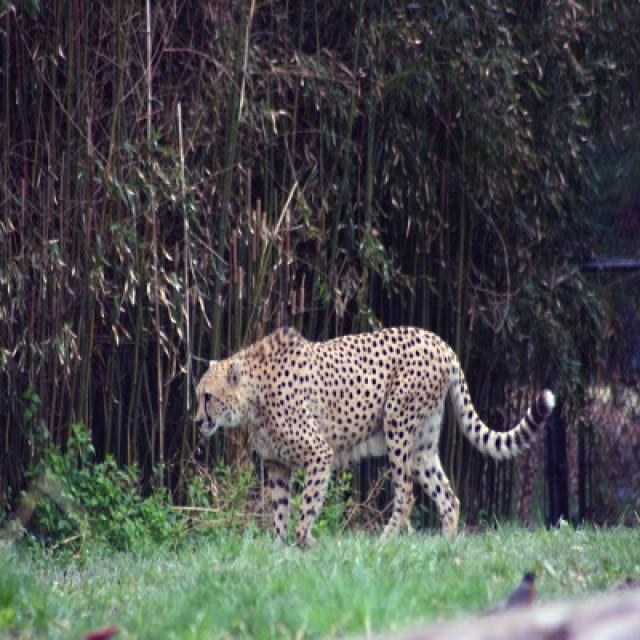Cheetah: (195, 326, 555, 542)
